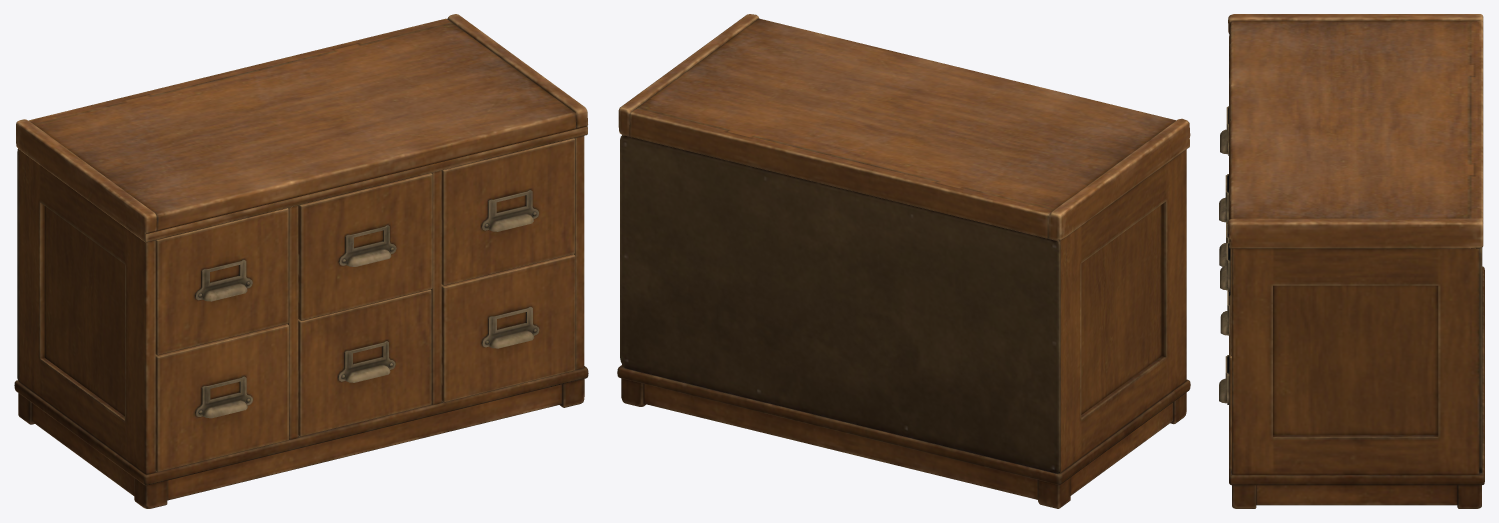
File: drawer.glb
3 renders of one model, left to right at view 1: azimuth 30°, elevation 25°; view 2: azimuth 150°, elevation 25°; view 3: azimuth 270°, elevation 25°, orthographic. The views are drawn at different scales.
Visible parts, largest first — view 1: vintage_wooden_drawer_01_body, vintage_wooden_drawer_01_drawer06, vintage_wooden_drawer_01_drawer02, vintage_wooden_drawer_01_drawer04, vintage_wooden_drawer_01_drawer03, vintage_wooden_drawer_01_drawer01, vintage_wooden_drawer_01_drawer05; view 2: vintage_wooden_drawer_01_body; view 3: vintage_wooden_drawer_01_body, vintage_wooden_drawer_01_drawer06, vintage_wooden_drawer_01_drawer03, vintage_wooden_drawer_01_drawer02.
Part boxes in pixels (x1,y1,x2,y2): vintage_wooden_drawer_01_body: (14,14,588,508); vintage_wooden_drawer_01_drawer06: (441,254,575,402); vintage_wooden_drawer_01_drawer02: (298,173,432,320); vintage_wooden_drawer_01_drawer04: (155,324,288,472); vintage_wooden_drawer_01_drawer03: (441,138,574,285); vintage_wooden_drawer_01_drawer01: (155,208,288,355); vintage_wooden_drawer_01_drawer05: (298,289,431,436); vintage_wooden_drawer_01_body: (617,14,1190,508); vintage_wooden_drawer_01_body: (1228,14,1484,508); vintage_wooden_drawer_01_drawer06: (1219,295,1231,469); vintage_wooden_drawer_01_drawer03: (1220,242,1231,355); vintage_wooden_drawer_01_drawer02: (1219,174,1228,223).
Size of the model in its own units: 0.8576 by 0.5454 by 0.4574.
Materials: 1 (1 with a texture image).
